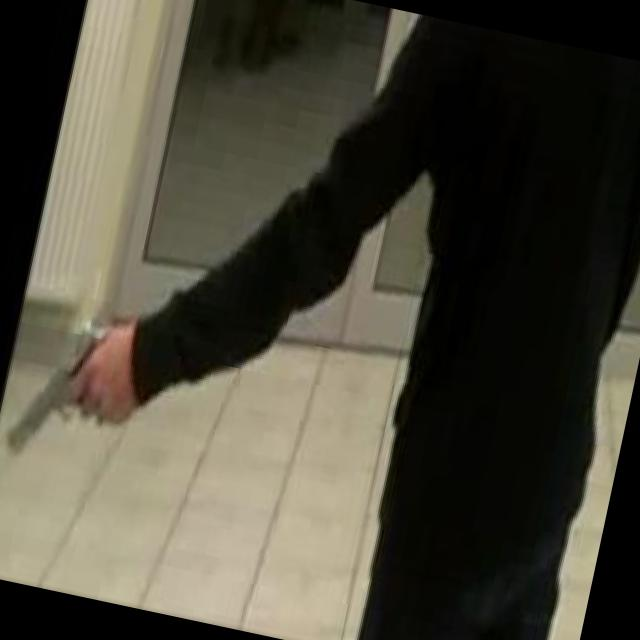Guns: (0, 273, 149, 498)
